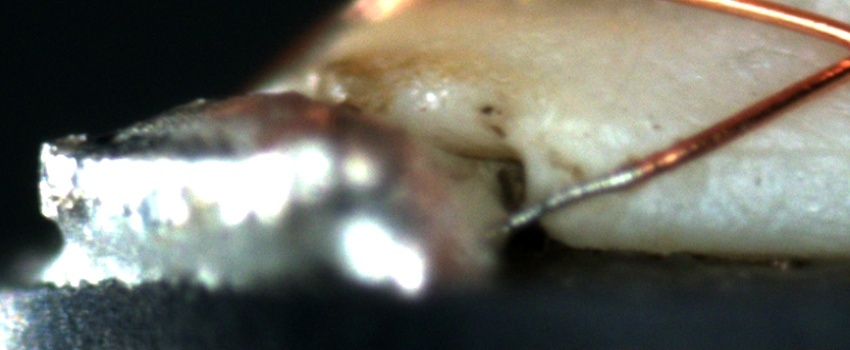CL: (830, 24, 850, 76)
DL: (691, 116, 850, 180)
TS: (506, 163, 641, 234)
